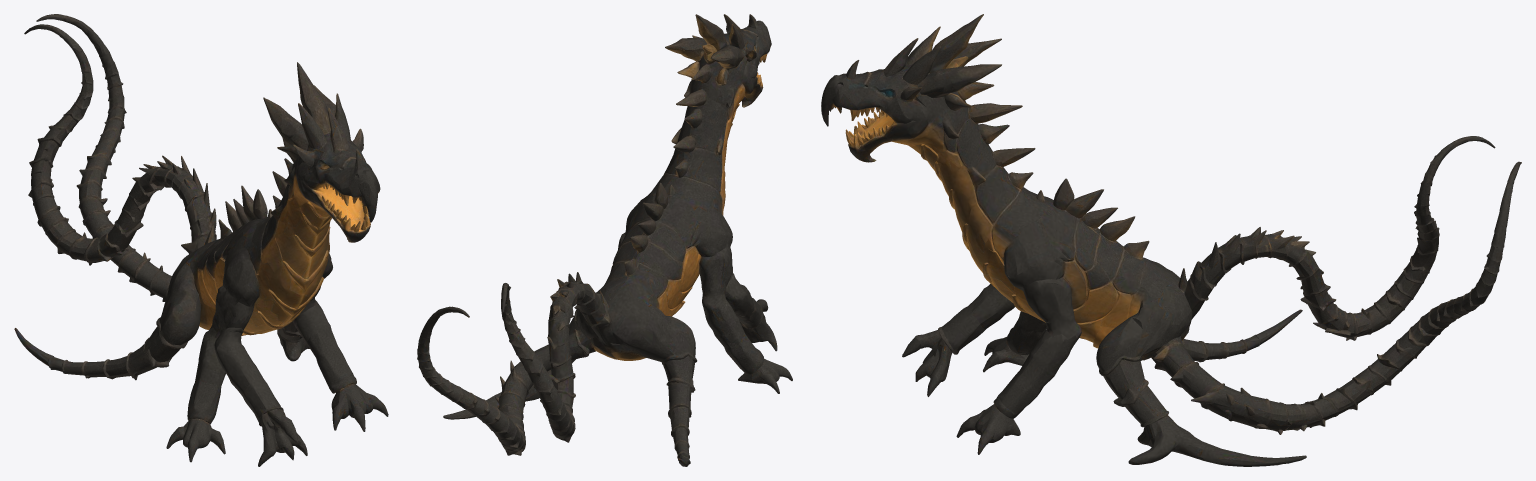
File: raid_hydra.glb
3 views of the same model, side by side, from view 1: azimuth 30°, elevation 25°; view 2: azimuth 150°, elevation 25°; view 3: azimuth 270°, elevation 25° (orthographic). The views are drawn at different scales.
Bounding box in the file's own units: 0.8531 × 1.19 × 1.9.
Materials: 1 (1 with a texture image).
